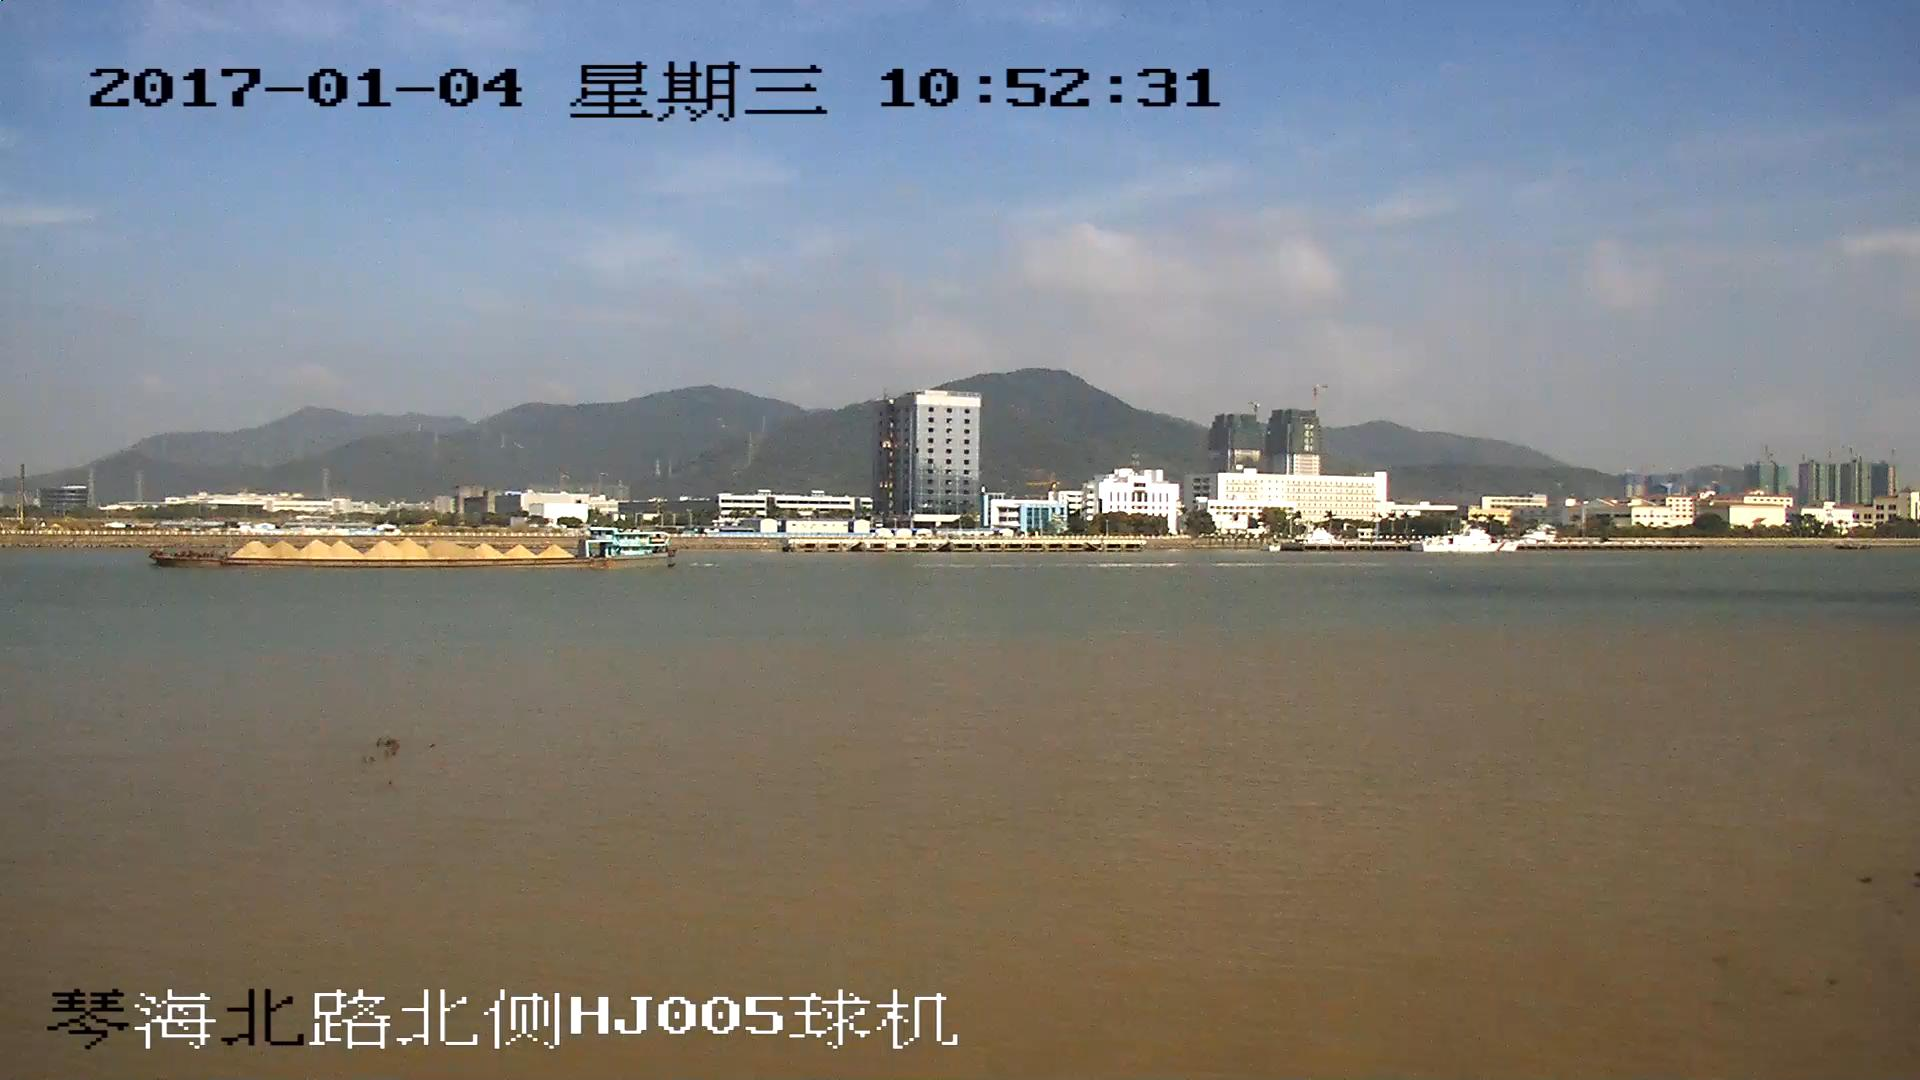ore carrier: (157, 526, 666, 571)
